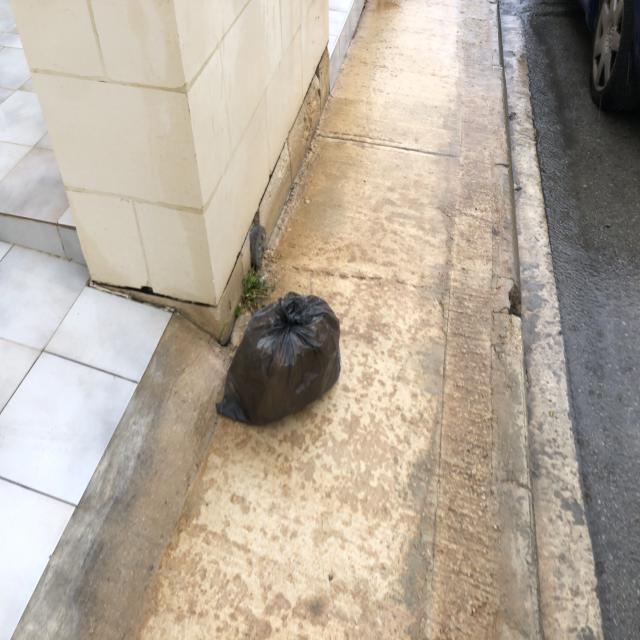Mixed Waste -Black Bag-: (216, 293, 341, 425)
